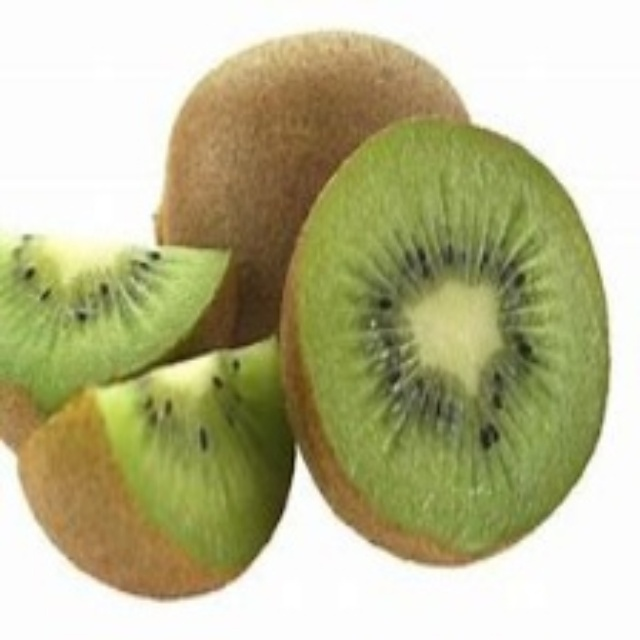kiwi: (276, 121, 605, 569), (2, 228, 307, 604), (170, 34, 467, 351)
